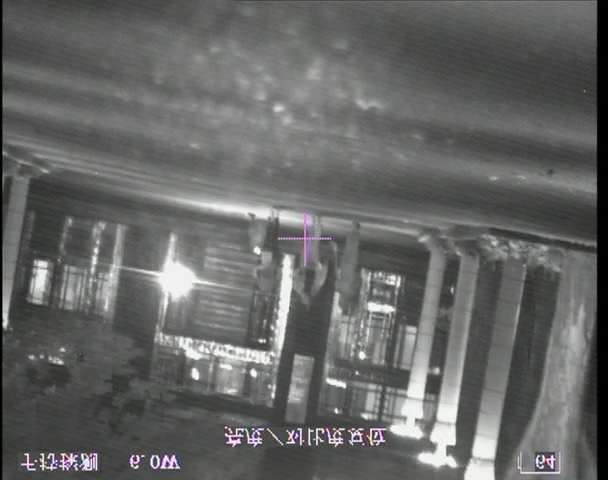my: (253, 245, 261, 256)
